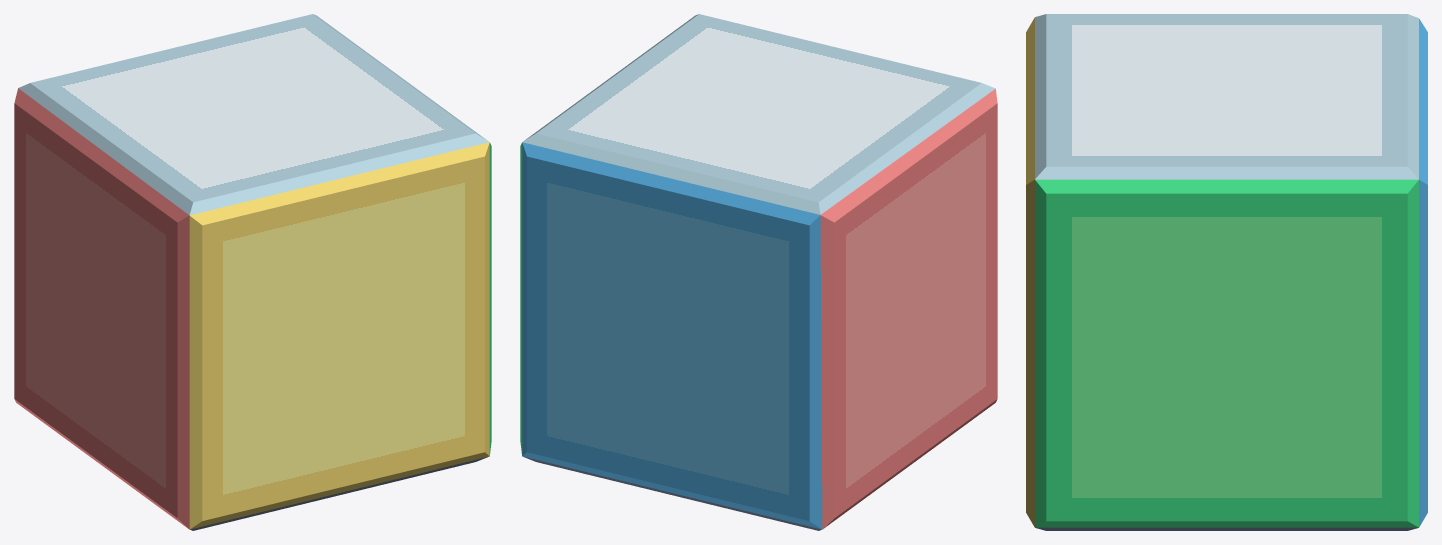
Rendered from roundedcube_buildingblock_village.obj.
The picture shows the model from 3 angles, left to right: view 1: azimuth 30°, elevation 25°; view 2: azimuth 150°, elevation 25°; view 3: azimuth 270°, elevation 25°; orthographic projection. The views are drawn at different scales.
Visible parts, largest first — view 1: cube; view 2: cube; view 3: cube.
Boxes of the visible parts, bbox=[...] form: cube: bbox=[14, 14, 491, 530]; cube: bbox=[520, 14, 997, 530]; cube: bbox=[1026, 14, 1427, 530].
Bounding box in the file's own units: 1 × 1 × 1.
